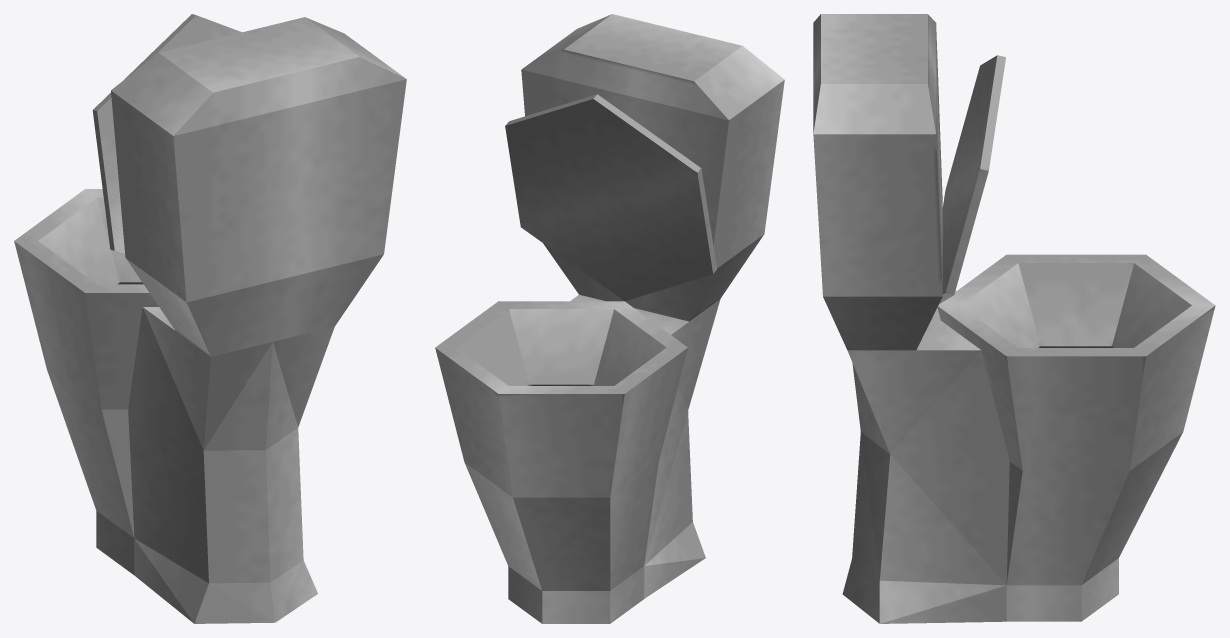
File: toilet.fbx
3 views of the same model, side by side, from view 1: azimuth 30°, elevation 25°; view 2: azimuth 150°, elevation 25°; view 3: azimuth 270°, elevation 25° (orthographic). The views are drawn at different scales.
Parts seen in each view (by area): view 1: Toilet; view 2: Toilet; view 3: Toilet.
Boxes of the visible parts, left/top/right/bottom form: Toilet: left=14, top=14, right=406, bottom=623; Toilet: left=435, top=14, right=784, bottom=623; Toilet: left=813, top=14, right=1215, bottom=623.
Bounding box in the file's own units: 0.6758 × 1.03 × 1.54.
1 material, 1 textured.
